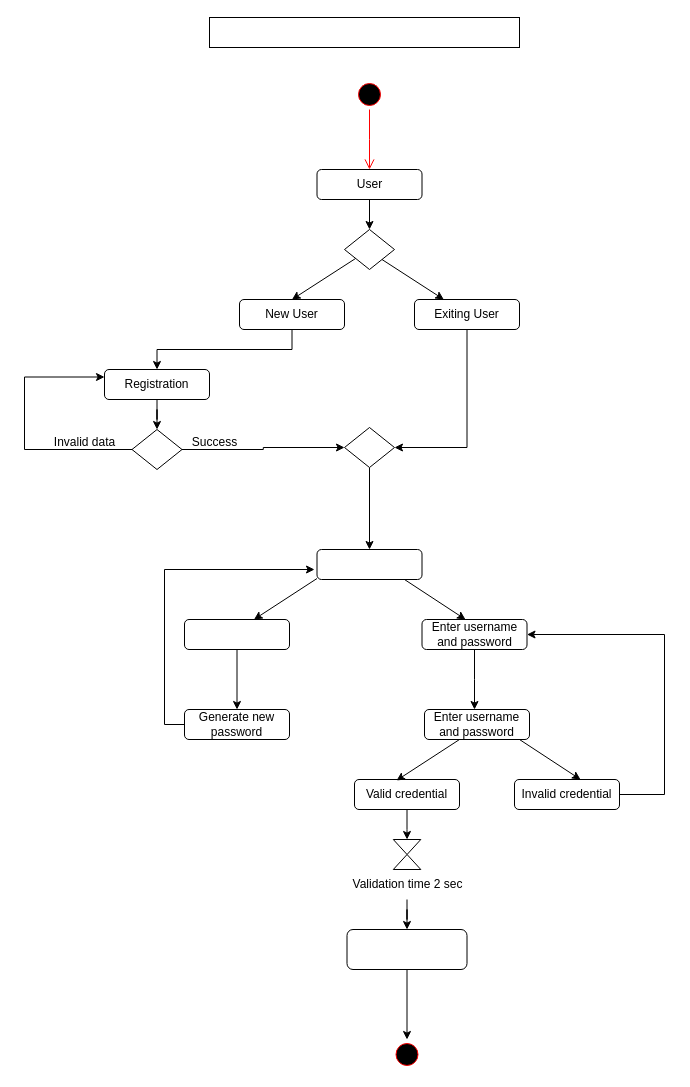
This 690x1087 diagram has some shape labels left out. Each missing label, with the centre of its shape:
"Forgot password" goes at point 237,634.
"Login" goes at point 369,564.
"Login successful and view homepage" goes at point 406,949.
"State diagram for Registration and Login to BookNest" goes at point 364,32.
